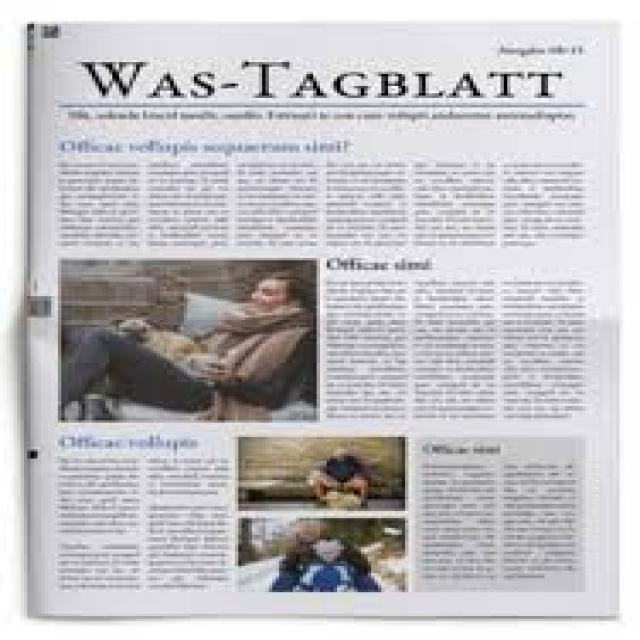paper: (14, 28, 610, 611)
